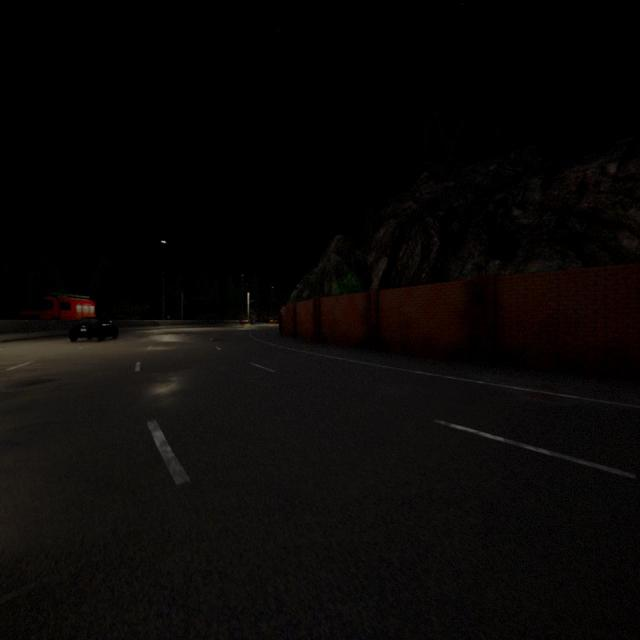Traffic_Signs: (281, 308, 287, 316)
Vehicle: (26, 296, 96, 319), (69, 317, 119, 342)
